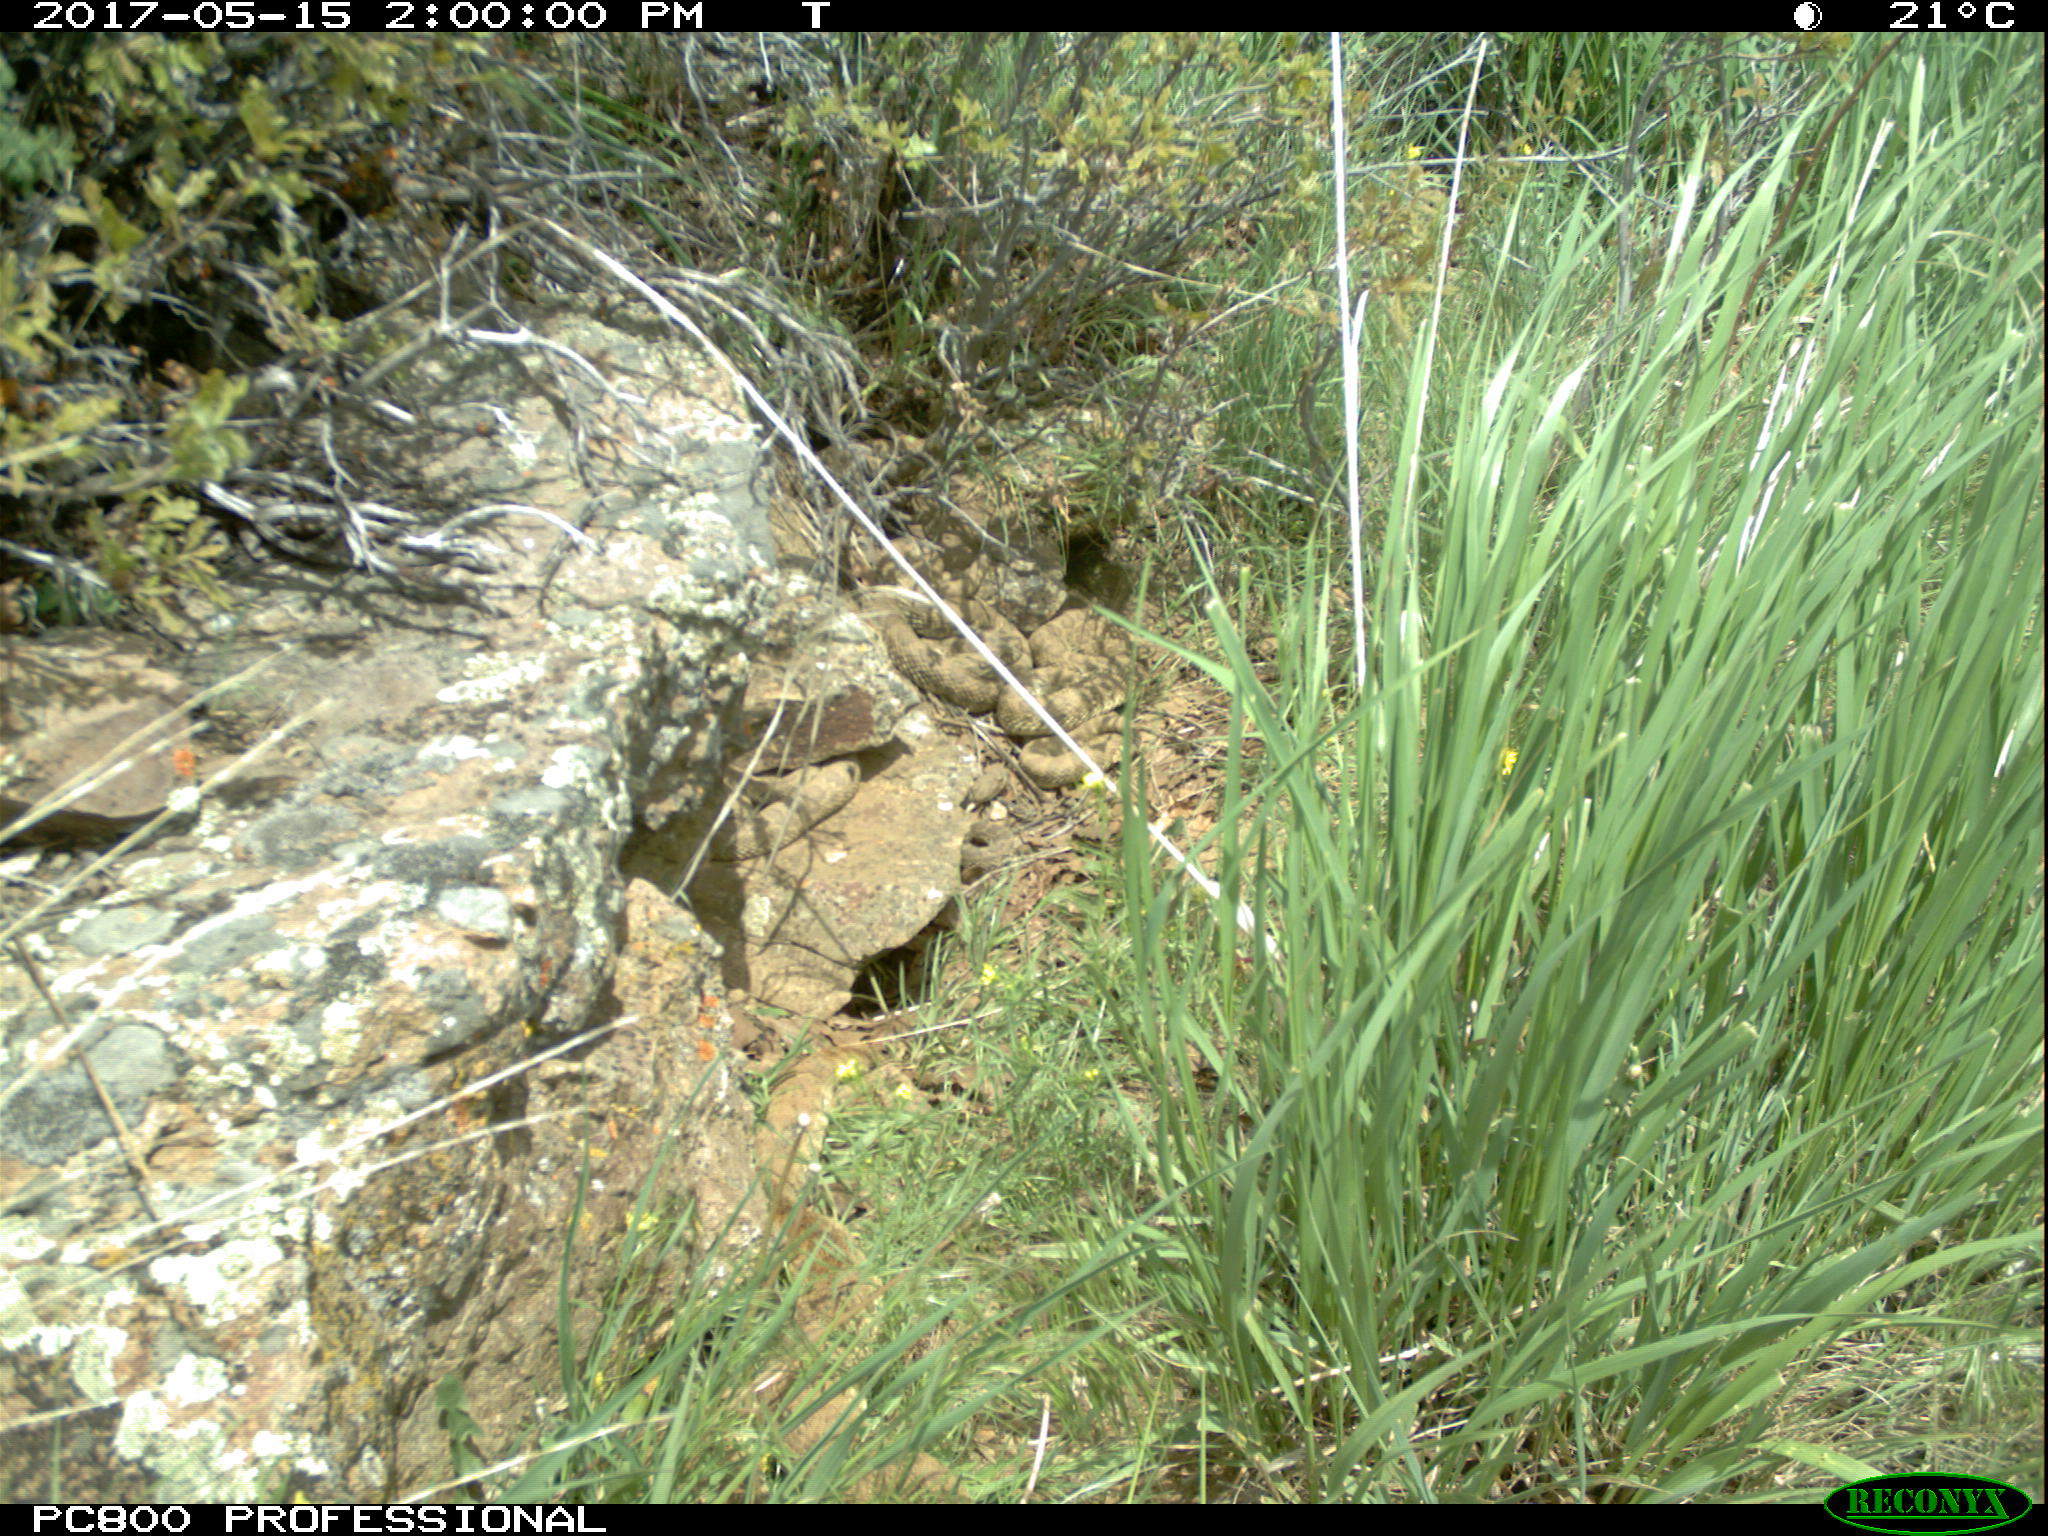snake: (755, 1039, 897, 1446), (874, 587, 1034, 712), (989, 607, 1135, 739), (714, 760, 864, 860), (1019, 736, 1130, 786)
